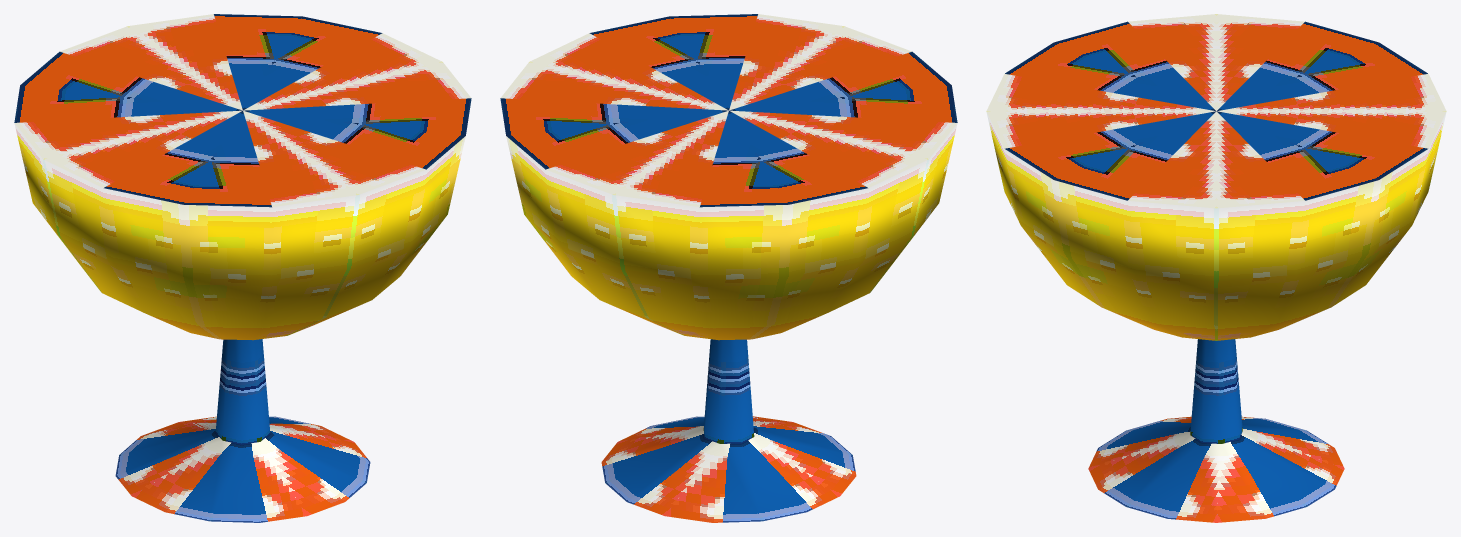
File: int_ctr_g_tableS.dae
The picture shows the model from 3 angles, left to right: view 1: azimuth 30°, elevation 25°; view 2: azimuth 150°, elevation 25°; view 3: azimuth 270°, elevation 25°; orthographic projection.
Parts seen in each view (by area): view 1: int_ctr_g_tableS; view 2: int_ctr_g_tableS; view 3: int_ctr_g_tableS.
Part boxes in pixels (x1,y1,x2,y2): int_ctr_g_tableS: (14,14,471,522); int_ctr_g_tableS: (500,14,957,522); int_ctr_g_tableS: (986,14,1446,522).
Size of the model in its own units: 28 by 24 by 28.
1 material, 1 textured.
